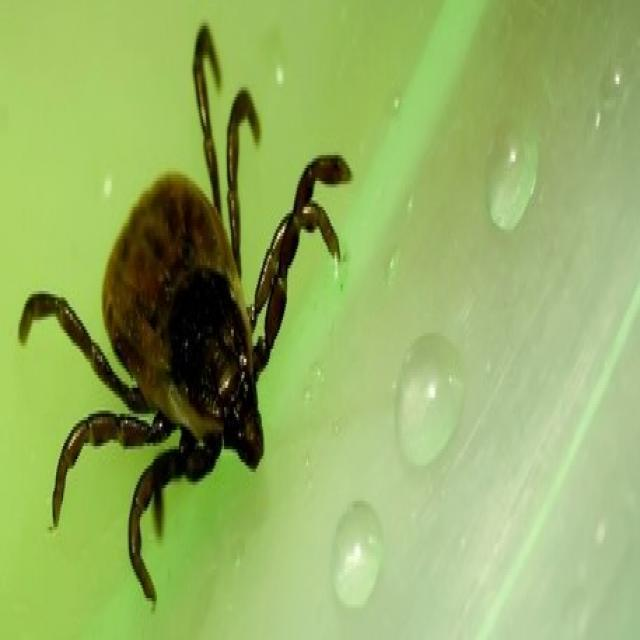Rhipicephalus Sanguineus-F: (15, 23, 353, 608)
